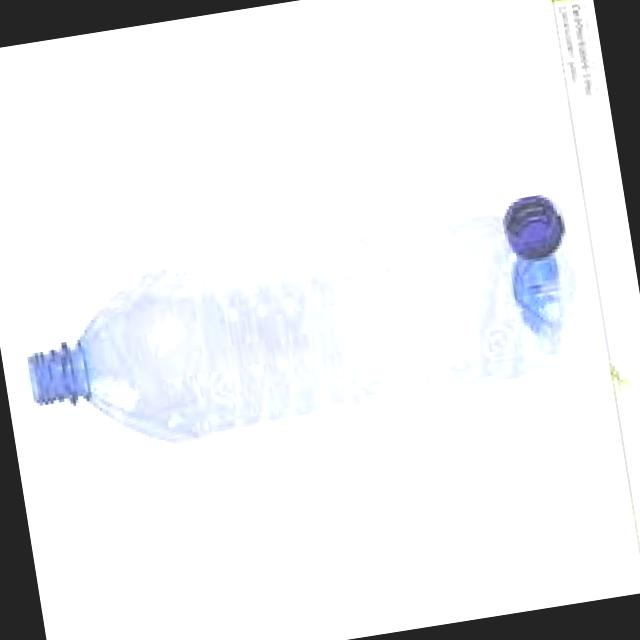bottle: (28, 201, 562, 443)
